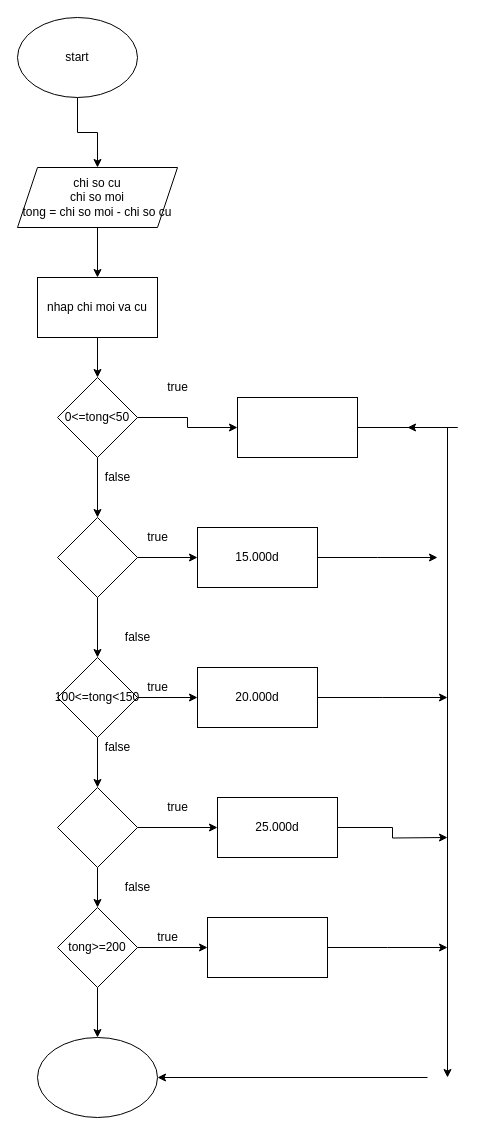
The diagram is 483 pixels wide and 1135 high, and some of its shapes have lost their labels. Here are the shapes that lost their labels. From the top down, the centre of each, then its label:
At (297,427): "10.000d".
At (97,557): "50<=tong<100".
At (97,827): "150<=tong<200".
At (267,947): "30.000d".
At (97,1077): "end".
